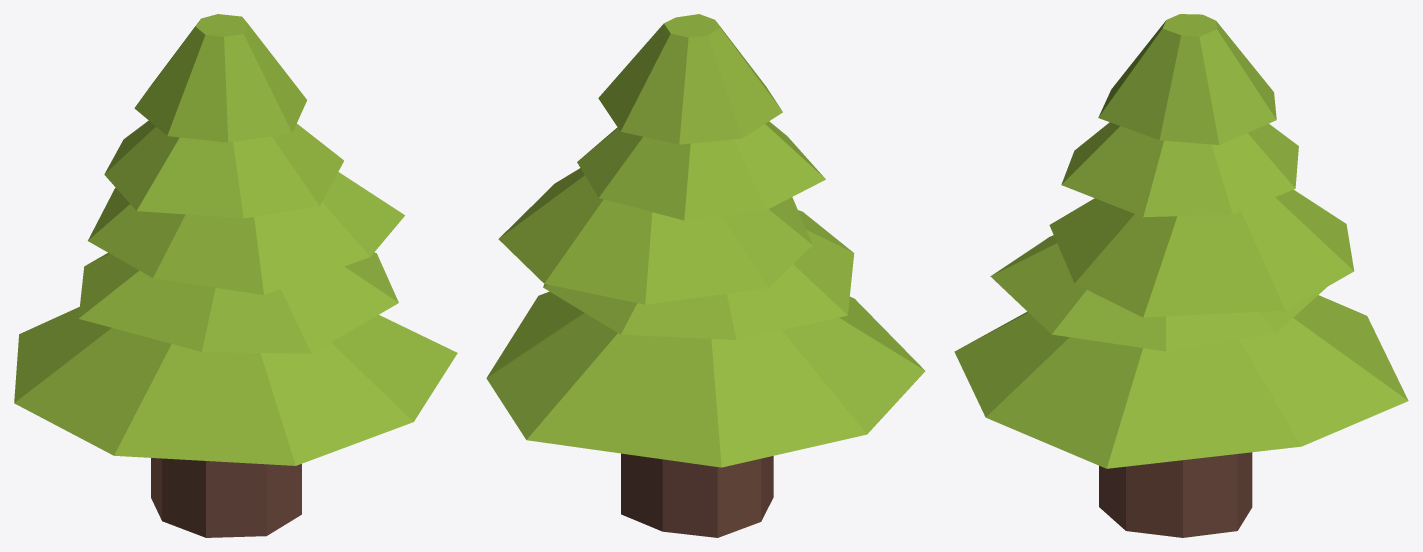
Rendered from Tree 5.fbx.
3 renders of one model, left to right at view 1: azimuth 30°, elevation 25°; view 2: azimuth 150°, elevation 25°; view 3: azimuth 270°, elevation 25°, orthographic.
Parts seen in each view (by area): view 1: BlätterUnten, Cube; view 2: BlätterUnten, Cube; view 3: BlätterUnten, Cube.
Part boxes in pixels (x1,y1,x2,y2): BlätterUnten: [14, 14, 457, 465]; Cube: [151, 458, 301, 537]; BlätterUnten: [486, 14, 925, 467]; Cube: [621, 453, 773, 537]; BlätterUnten: [954, 14, 1408, 468]; Cube: [1099, 452, 1252, 537].
Bounding box in the file's own units: 803 × 953 × 813.
